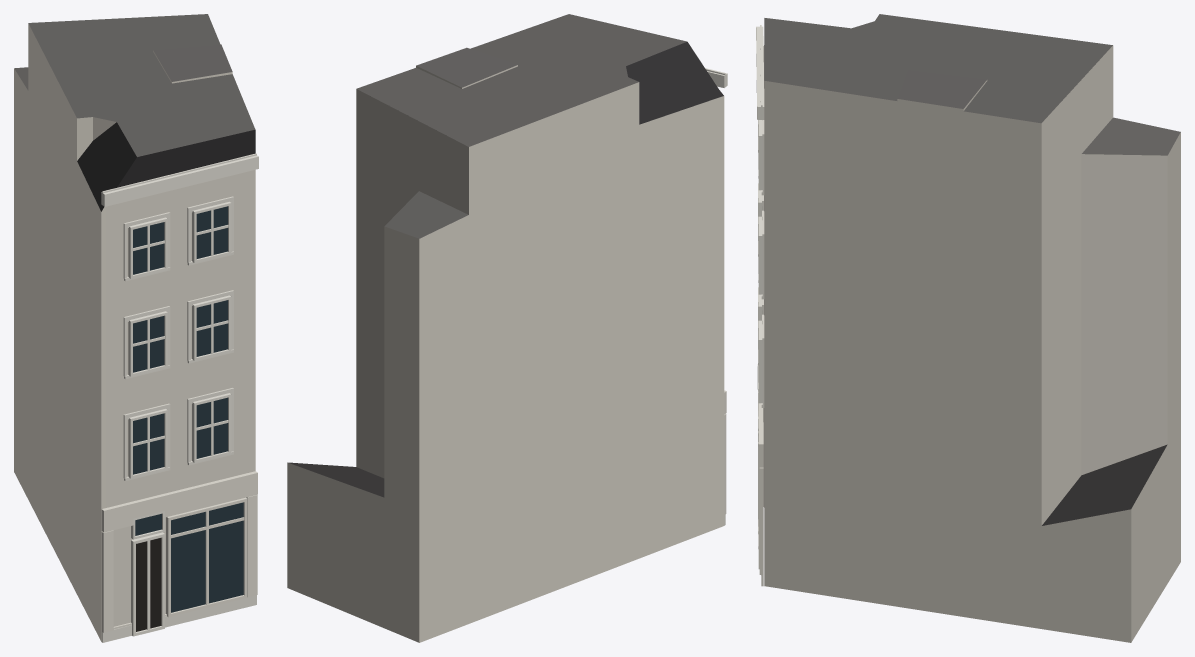
The picture shows the model from 3 angles, left to right: view 1: azimuth 30°, elevation 25°; view 2: azimuth 150°, elevation 25°; view 3: azimuth 270°, elevation 25°; orthographic projection. The views are drawn at different scales.
Parts seen in each view (by area): view 1: spec-0363100012182549; view 2: spec-0363100012182549; view 3: spec-0363100012182549.
Part boxes in pixels (x1,y1,x2,y2): spec-0363100012182549: [14, 14, 258, 642]; spec-0363100012182549: [287, 14, 727, 642]; spec-0363100012182549: [756, 14, 1180, 642].
Bounding box in the file's own units: 7.86 × 13.57 × 10.29.
